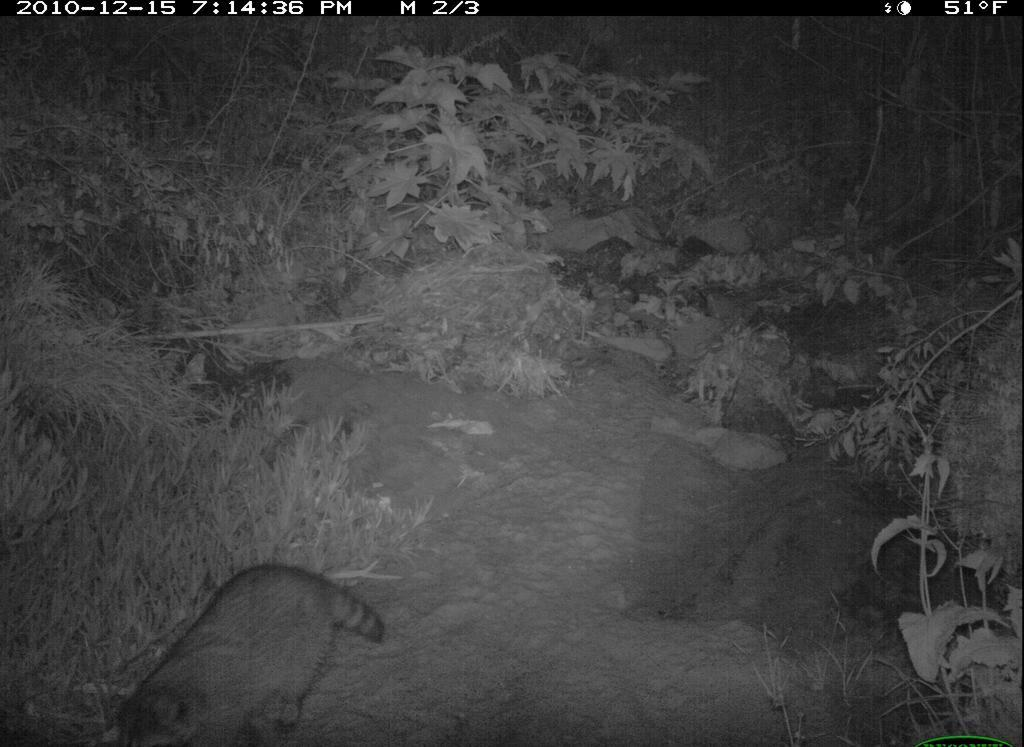raccoon: (105, 542, 395, 744)
